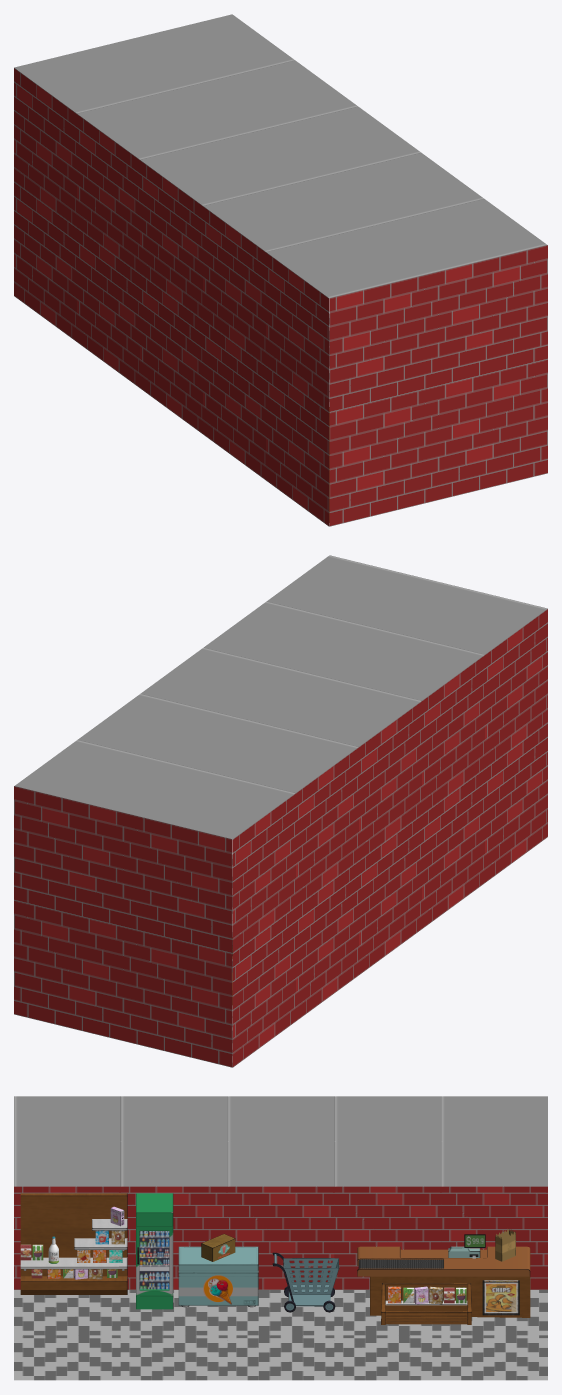
File: Shop_scene.fbx
The picture shows the model from 3 angles, top to bottom: view 1: azimuth 30°, elevation 25°; view 2: azimuth 150°, elevation 25°; view 3: azimuth 270°, elevation 25°; orthographic projection. The views are drawn at different scales.
Visible parts, largest first — view 1: Wall_front, Roof, Wall_side; view 2: Wall_front, Roof, Wall_side; view 3: Roof, Floor, Wall_front, Shelves, Table, Ice_cream, Refrigerator, Shelves_low, Cart, Table_wall, Paint_chips, Box (+2 smaller).
Part boxes in pixels (box(x1,y1,x2,y2)): Wall_front: box(14, 68, 329, 526); Roof: box(14, 14, 546, 298); Wall_side: box(329, 245, 547, 526); Wall_front: box(232, 609, 547, 1067); Roof: box(15, 555, 547, 839); Wall_side: box(14, 786, 232, 1067); Roof: box(14, 1096, 547, 1186); Floor: box(14, 1290, 547, 1380); Wall_front: box(14, 1186, 547, 1289); Shelves: box(20, 1193, 127, 1294); Table: box(357, 1246, 530, 1276); Ice_cream: box(178, 1246, 258, 1307); Refrigerator: box(136, 1193, 173, 1309); Shelves_low: box(381, 1283, 471, 1324); Cart: box(272, 1252, 339, 1312); Table_wall: box(370, 1276, 530, 1317); Paint_chips: box(482, 1280, 519, 1315); Box: box(201, 1234, 235, 1261).
Size of the model in its own units: 401 by 400 by 1000.
